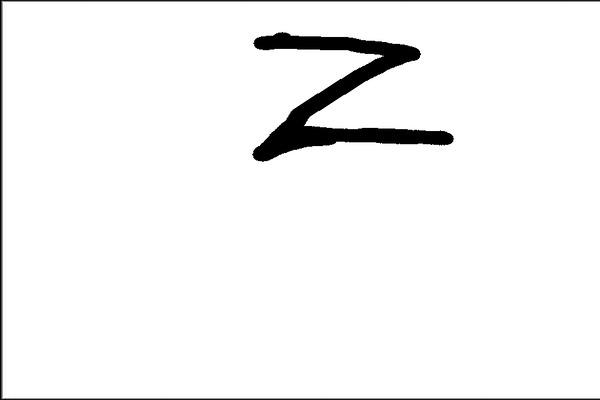Z: (240, 21, 462, 165)
